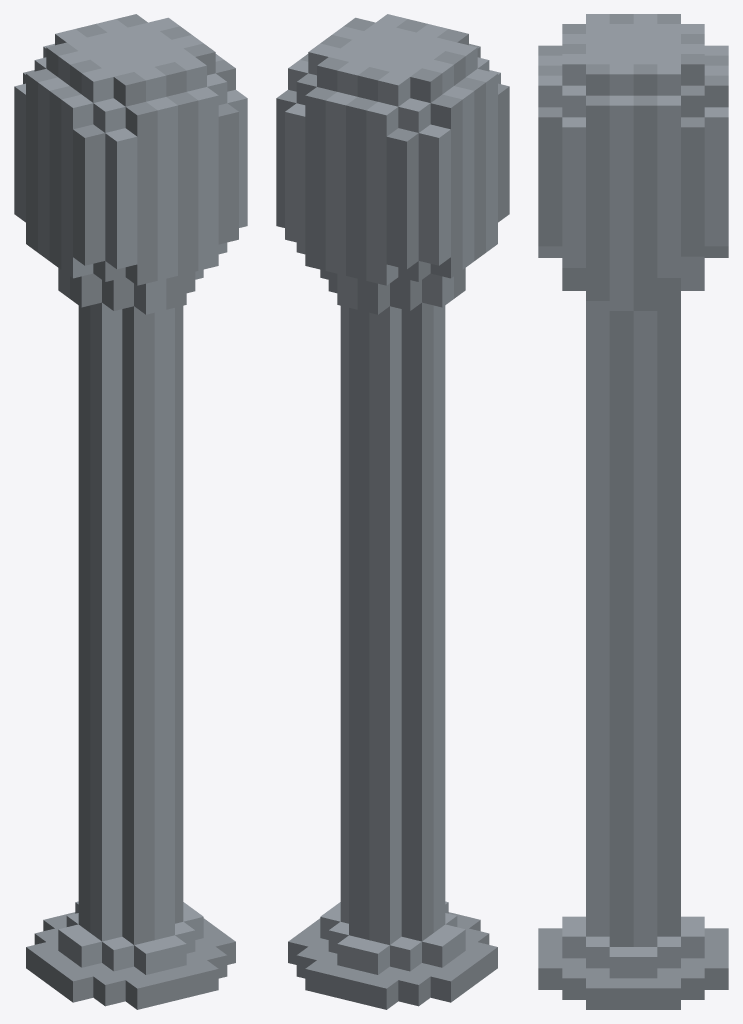
The model's file is krotkofalowka_v2-0.obj.
3 views of the same model, side by side, from view 1: azimuth 30°, elevation 25°; view 2: azimuth 150°, elevation 25°; view 3: azimuth 270°, elevation 25° (orthographic).
Bounding box in the file's own units: 0.8 × 4.3 × 0.8.
Materials: 1 (1 with a texture image).
